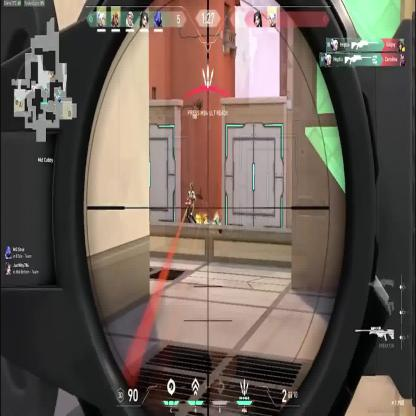enemy: (186, 181, 196, 226)
enemy_head: (190, 184, 193, 191)
